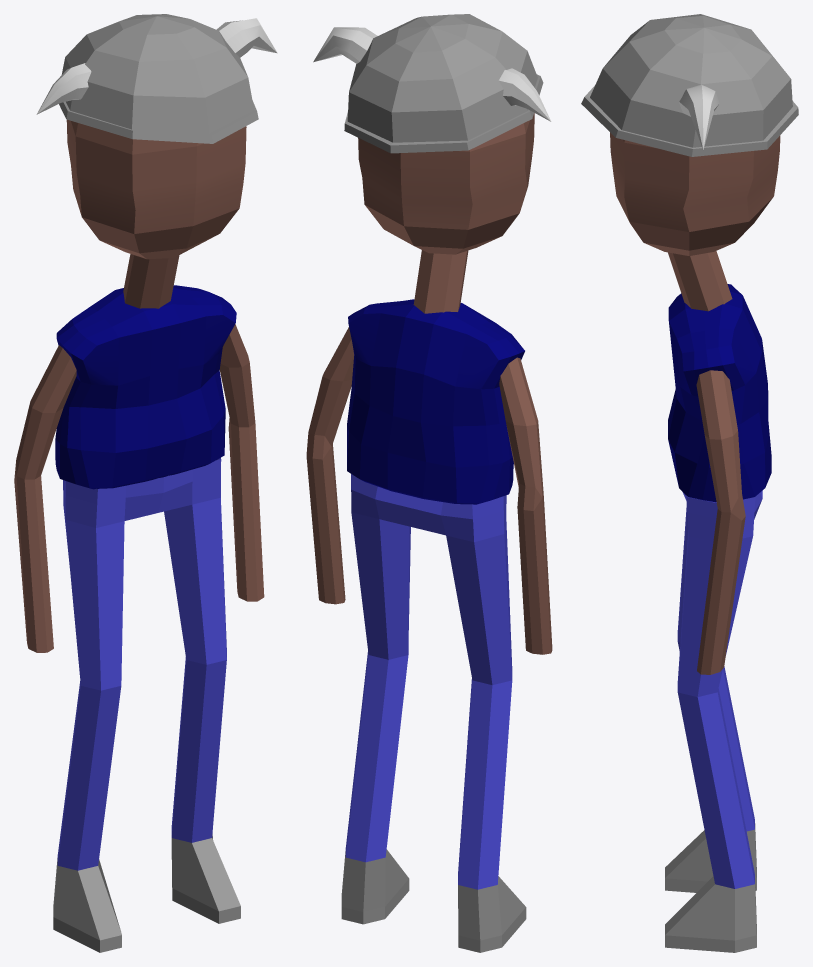
Rendered from Loki_001_Unarmoured_001.fbx.
The picture shows the model from 3 angles, left to right: view 1: azimuth 30°, elevation 25°; view 2: azimuth 150°, elevation 25°; view 3: azimuth 270°, elevation 25°; orthographic projection.
Visible parts, largest first — view 1: Loki_001_Unarmoured_002:Loki_001_Unarmoured_001; view 2: Loki_001_Unarmoured_002:Loki_001_Unarmoured_001; view 3: Loki_001_Unarmoured_002:Loki_001_Unarmoured_001.
Boxes of the visible parts, x1,y1,x2,y2 form: Loki_001_Unarmoured_002:Loki_001_Unarmoured_001: (14, 14, 277, 952); Loki_001_Unarmoured_002:Loki_001_Unarmoured_001: (306, 14, 552, 952); Loki_001_Unarmoured_002:Loki_001_Unarmoured_001: (581, 14, 798, 952).
Bounding box in the file's own units: 36.77 × 128 × 28.49.
